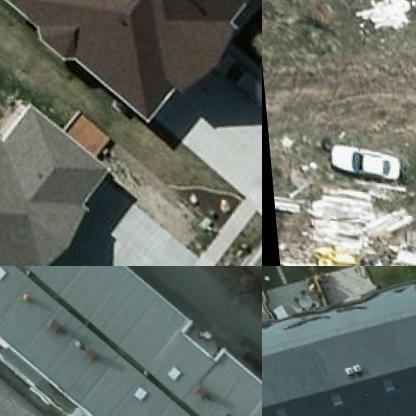car: (320, 139, 398, 179), (214, 42, 261, 103)
